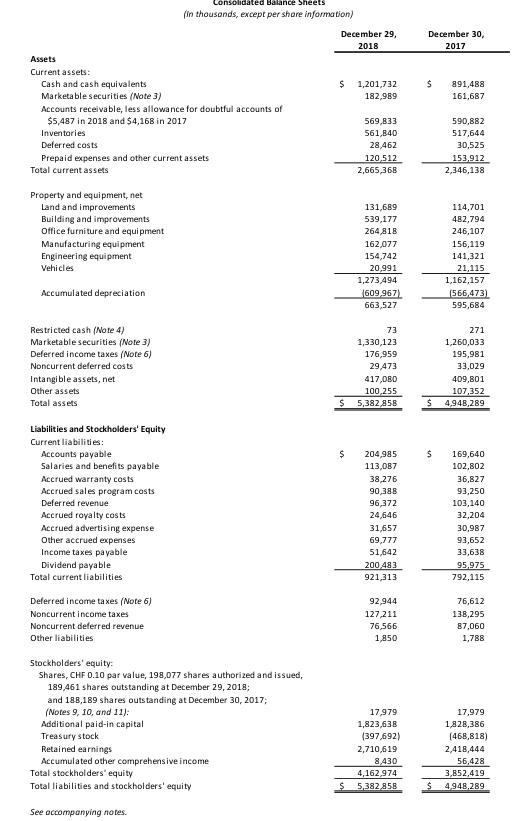table: (29, 29, 486, 789)
table column: (29, 29, 320, 789), (320, 29, 412, 789), (412, 29, 486, 789)
table column header: (29, 29, 486, 52)
table projected row header: (29, 181, 486, 200), (29, 416, 486, 435), (29, 650, 486, 668), (29, 52, 486, 65), (29, 65, 486, 77), (29, 435, 486, 447)
table row: (29, 668, 486, 717), (29, 102, 486, 126), (29, 29, 486, 52), (29, 396, 486, 416), (29, 181, 486, 200), (29, 298, 486, 317), (29, 416, 486, 435), (29, 588, 486, 607), (29, 631, 486, 650), (29, 163, 486, 181), (29, 317, 486, 335), (29, 570, 486, 588), (29, 650, 486, 668), (29, 52, 486, 65), (29, 89, 486, 102), (29, 138, 486, 151), (29, 224, 486, 237), (29, 261, 486, 274), (29, 359, 486, 372), (29, 459, 486, 472), (29, 508, 486, 521), (29, 545, 486, 558), (29, 729, 486, 742), (29, 766, 486, 779), (29, 65, 486, 77), (29, 77, 486, 89), (29, 126, 486, 138), (29, 151, 486, 163), (29, 200, 486, 212), (29, 212, 486, 224), (29, 237, 486, 249), (29, 249, 486, 261), (29, 274, 486, 286), (29, 286, 486, 298), (29, 335, 486, 347), (29, 347, 486, 359), (29, 372, 486, 384), (29, 384, 486, 396), (29, 435, 486, 447), (29, 447, 486, 459), (29, 472, 486, 484), (29, 484, 486, 496), (29, 496, 486, 508), (29, 521, 486, 533), (29, 533, 486, 545), (29, 558, 486, 570), (29, 607, 486, 619), (29, 619, 486, 631), (29, 717, 486, 729), (29, 742, 486, 754), (29, 754, 486, 766), (29, 779, 486, 789)
